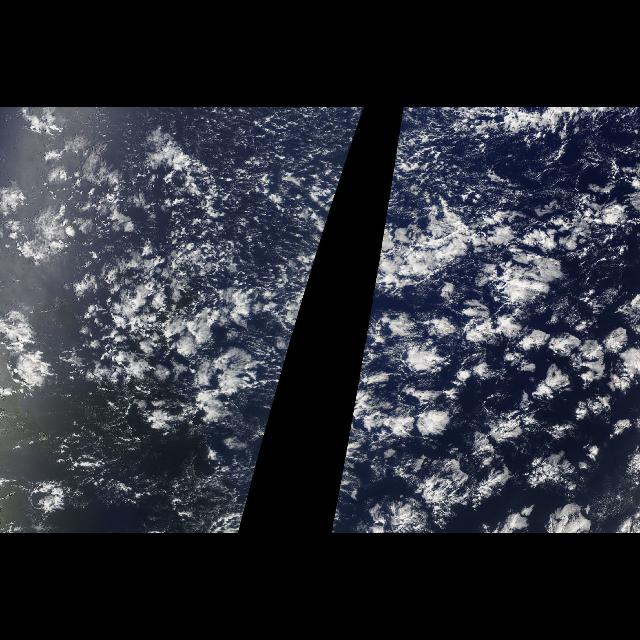Flower: (383, 223, 639, 532)
Gravel: (98, 110, 354, 292)
